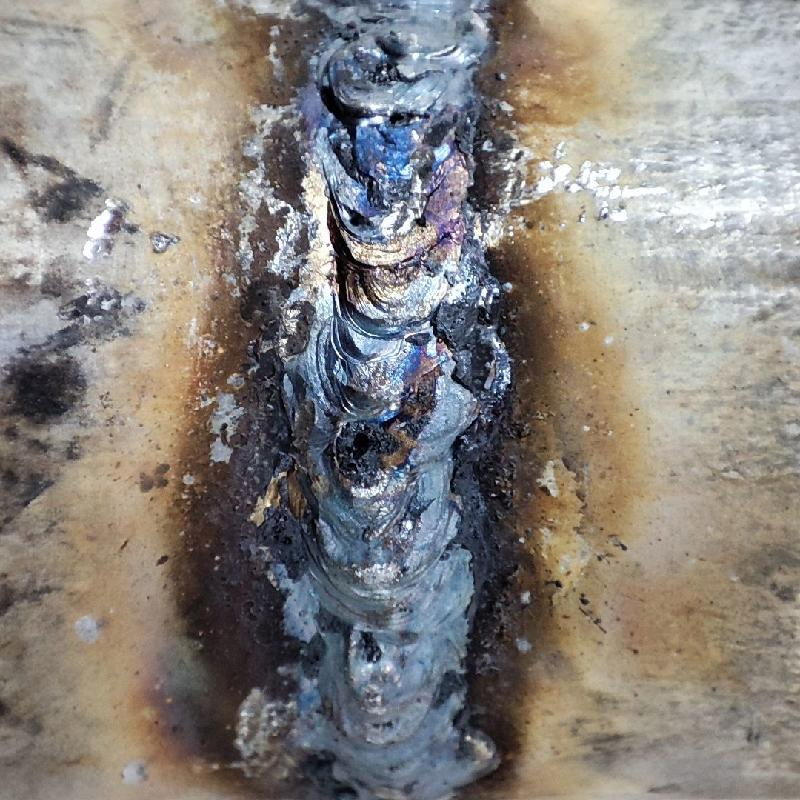Surface_pores: (325, 424, 393, 475), (376, 102, 424, 145), (397, 202, 448, 242), (335, 199, 380, 244)
